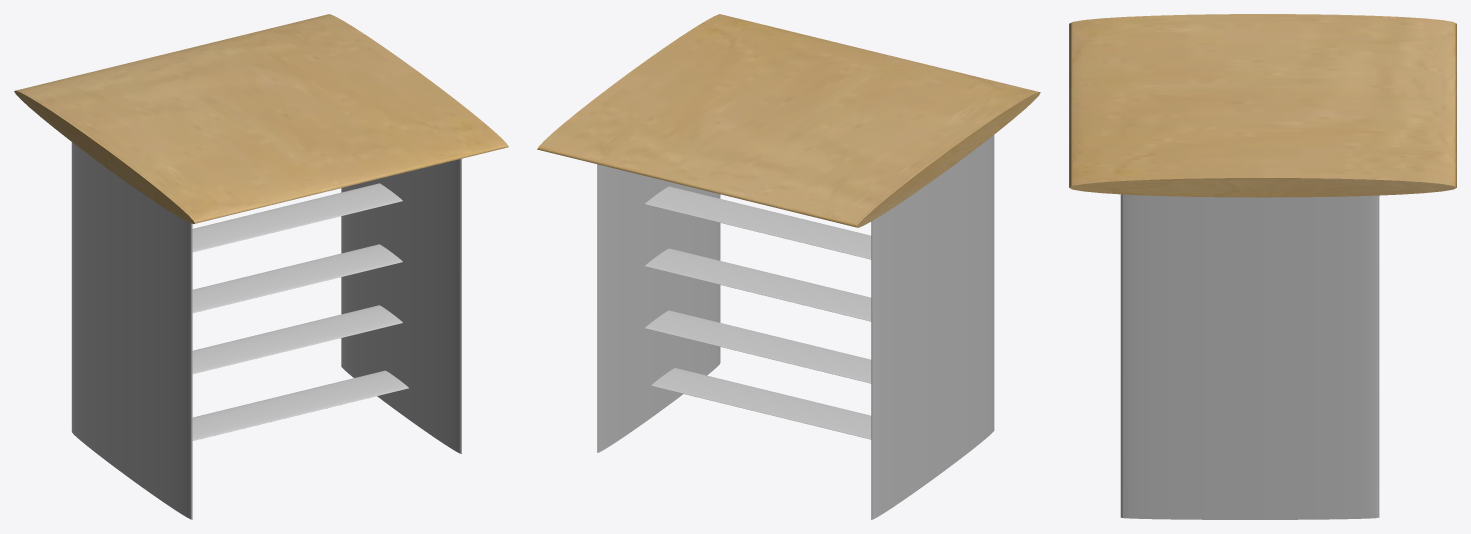
File: sh-contrib-garde-corps.glb
The picture shows the model from 3 angles, left to right: view 1: azimuth 30°, elevation 25°; view 2: azimuth 150°, elevation 25°; view 3: azimuth 270°, elevation 25°; orthographic projection. The views are drawn at different scales.
Visible parts, largest first — view 1: Cylinder32_9_1_1, Cylinder_23_2_2; view 2: Cylinder32_9_1_1, Cylinder_23_2_2; view 3: Cylinder32_9_1_1, Cylinder_23_2_2.
Boxes of the visible parts, box(x1,y1,x2,y2) form: Cylinder32_9_1_1: box(71, 142, 461, 519); Cylinder_23_2_2: box(14, 14, 508, 223); Cylinder32_9_1_1: box(597, 135, 994, 519); Cylinder_23_2_2: box(537, 14, 1040, 227); Cylinder32_9_1_1: box(1120, 194, 1379, 519); Cylinder_23_2_2: box(1069, 14, 1456, 197).
Size of the model in its own units: 1 by 1 by 1.
Materials: 2 (1 with a texture image).
